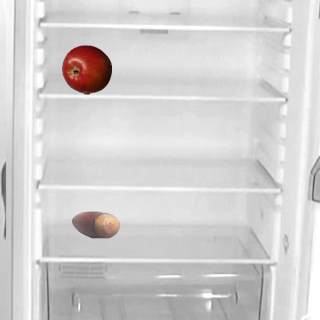Apple Braeburn: (61, 44, 111, 94)
Hazelnut: (70, 199, 120, 249)
